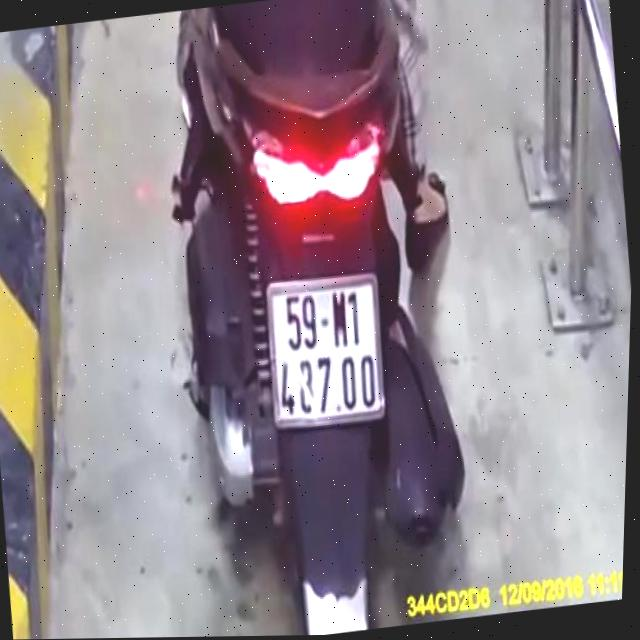motorcycle: (140, 0, 499, 638)
plate: (254, 266, 397, 436)
